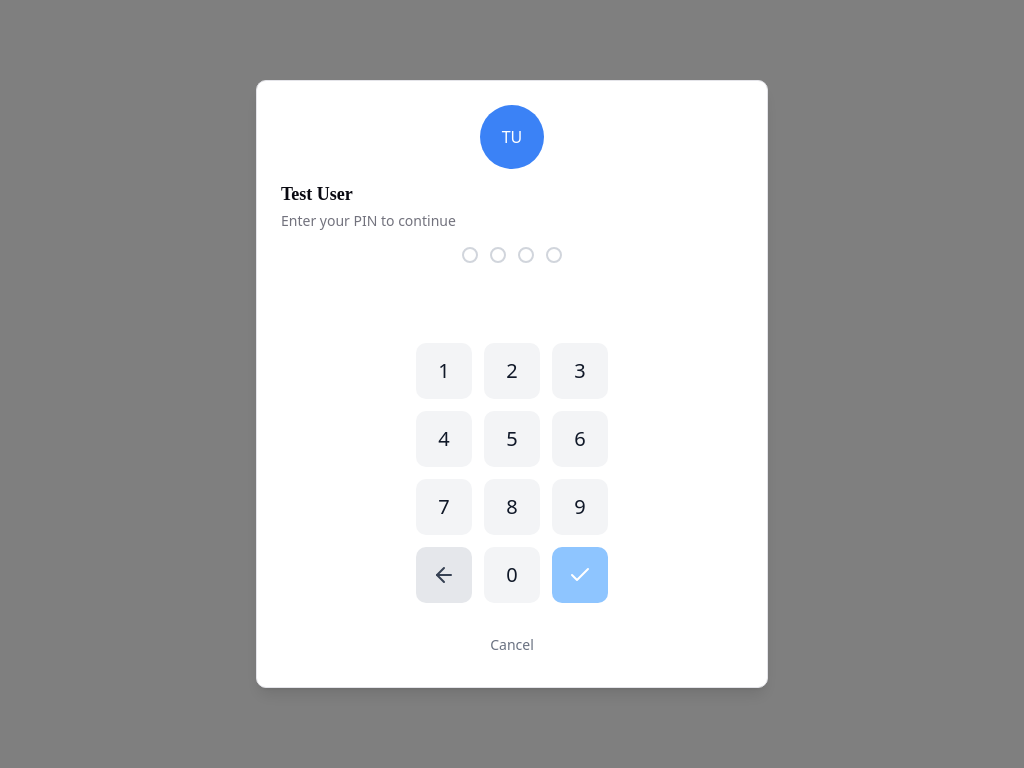
Test: PinEntryModal › PIN verification › shows attempts remaining when PIN is incorrect
Note: Enter PIN and submit
Click the button "1" at (444, 371), box top-left (416, 343), bottom-right (472, 399)
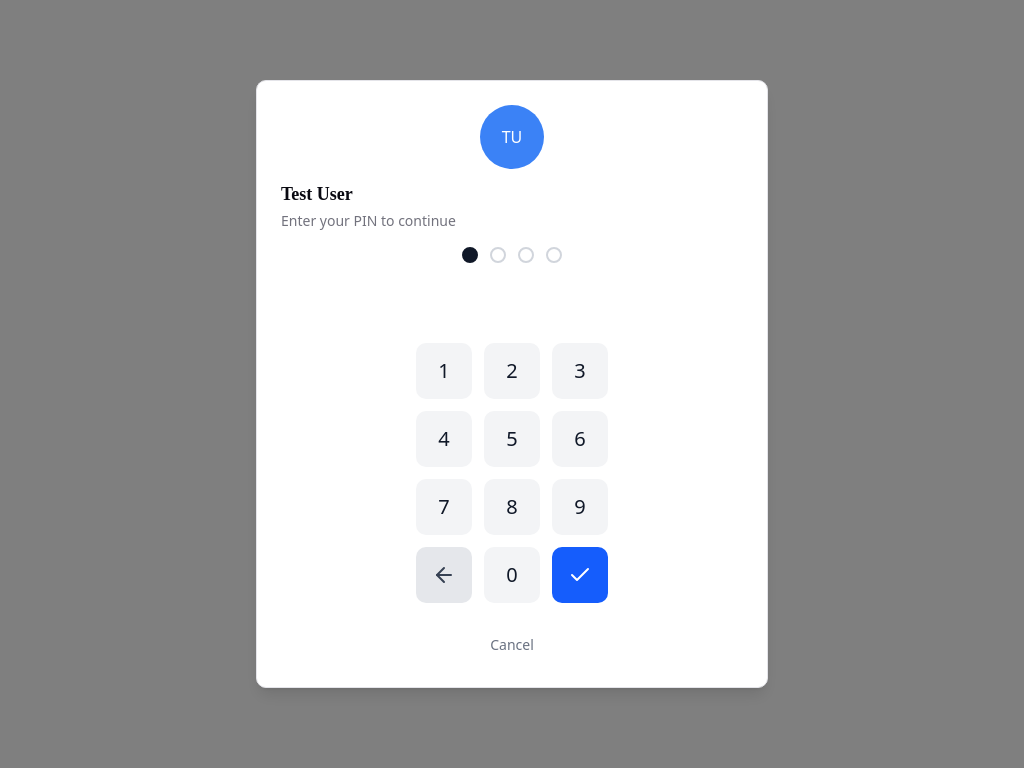
Click the button "2" at (512, 371), box top-left (484, 343), bottom-right (540, 399)
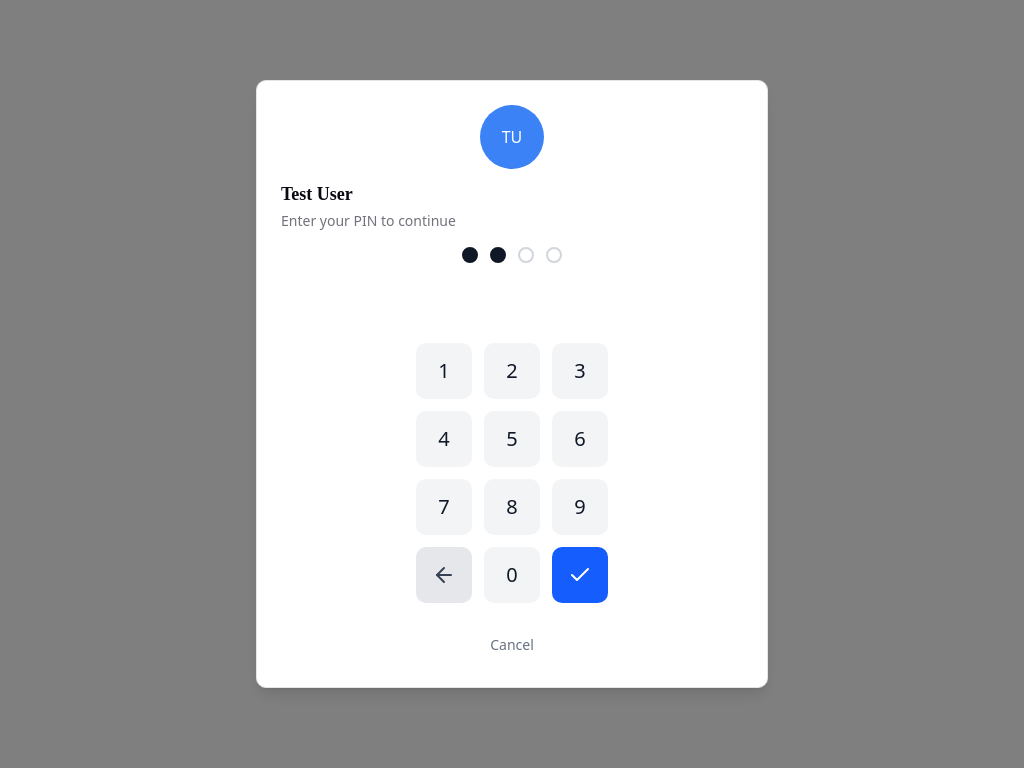
Click the button "3" at (580, 371), box top-left (552, 343), bottom-right (608, 399)
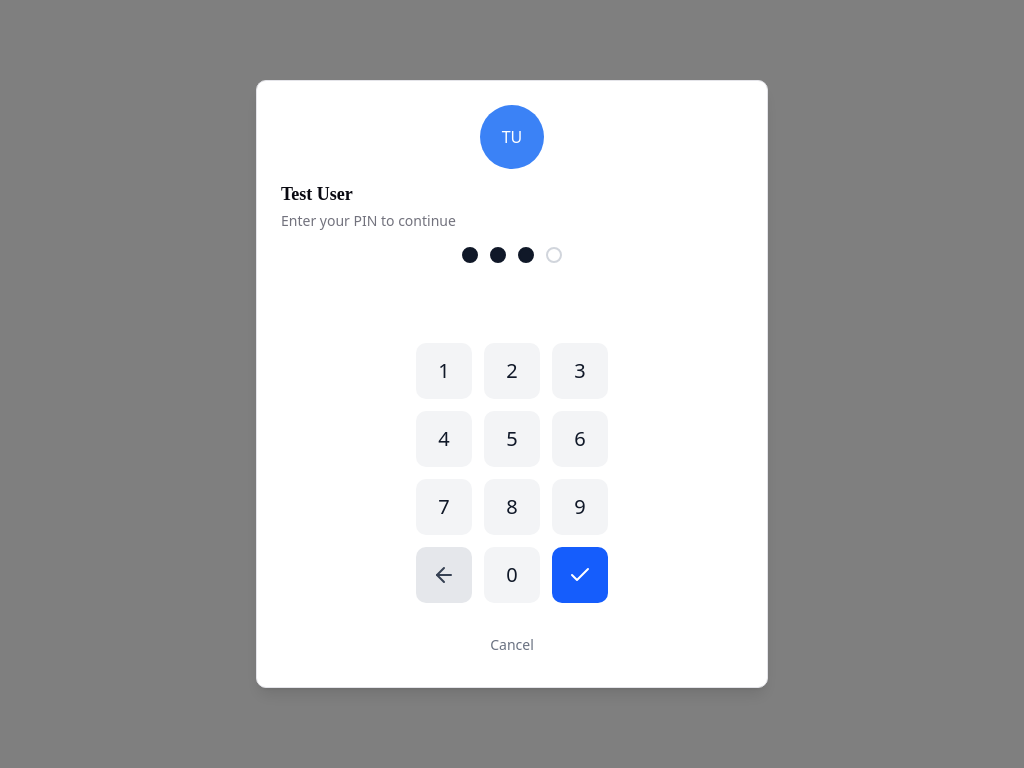
Click the button "4" at (444, 439), box top-left (416, 411), bottom-right (472, 467)
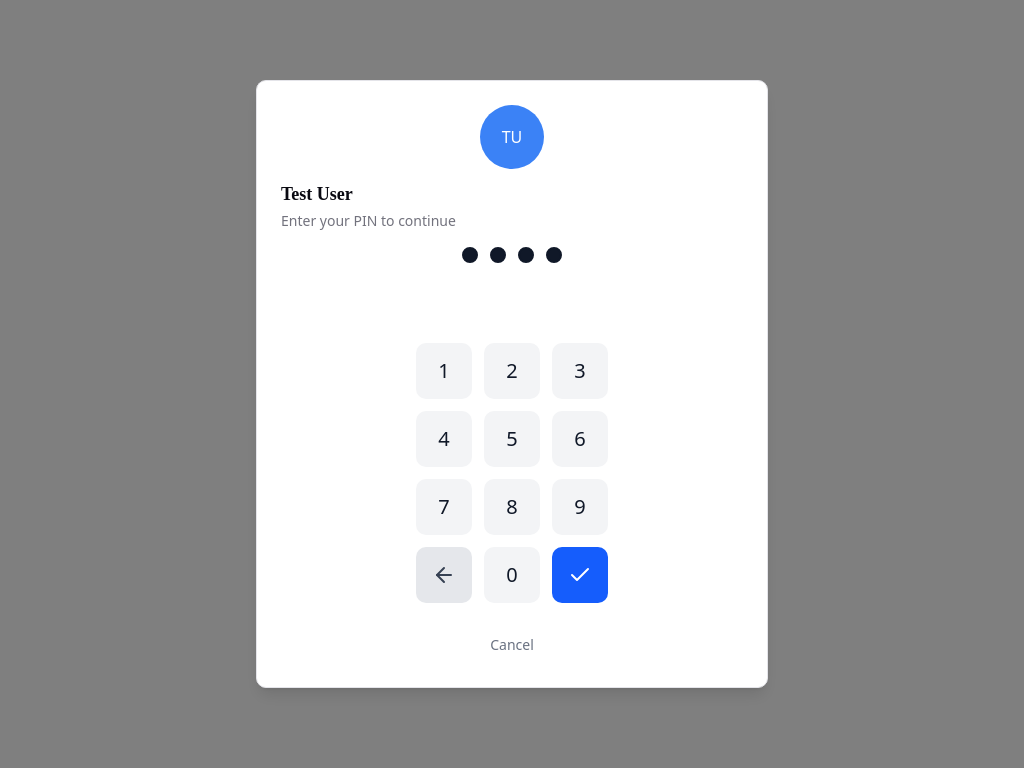
Click the button named "submit" at (580, 575), box top-left (552, 547), bottom-right (608, 603)
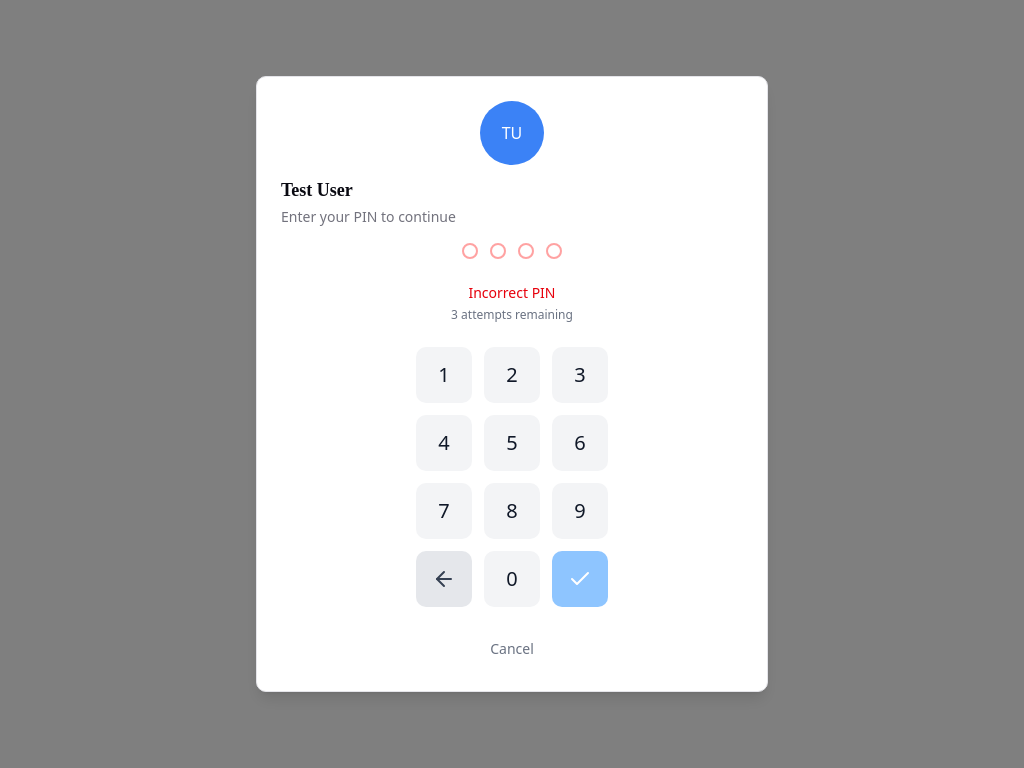
Check: the text "3 attempts remaining" is shown, box top-left (451, 307), bottom-right (573, 323)
